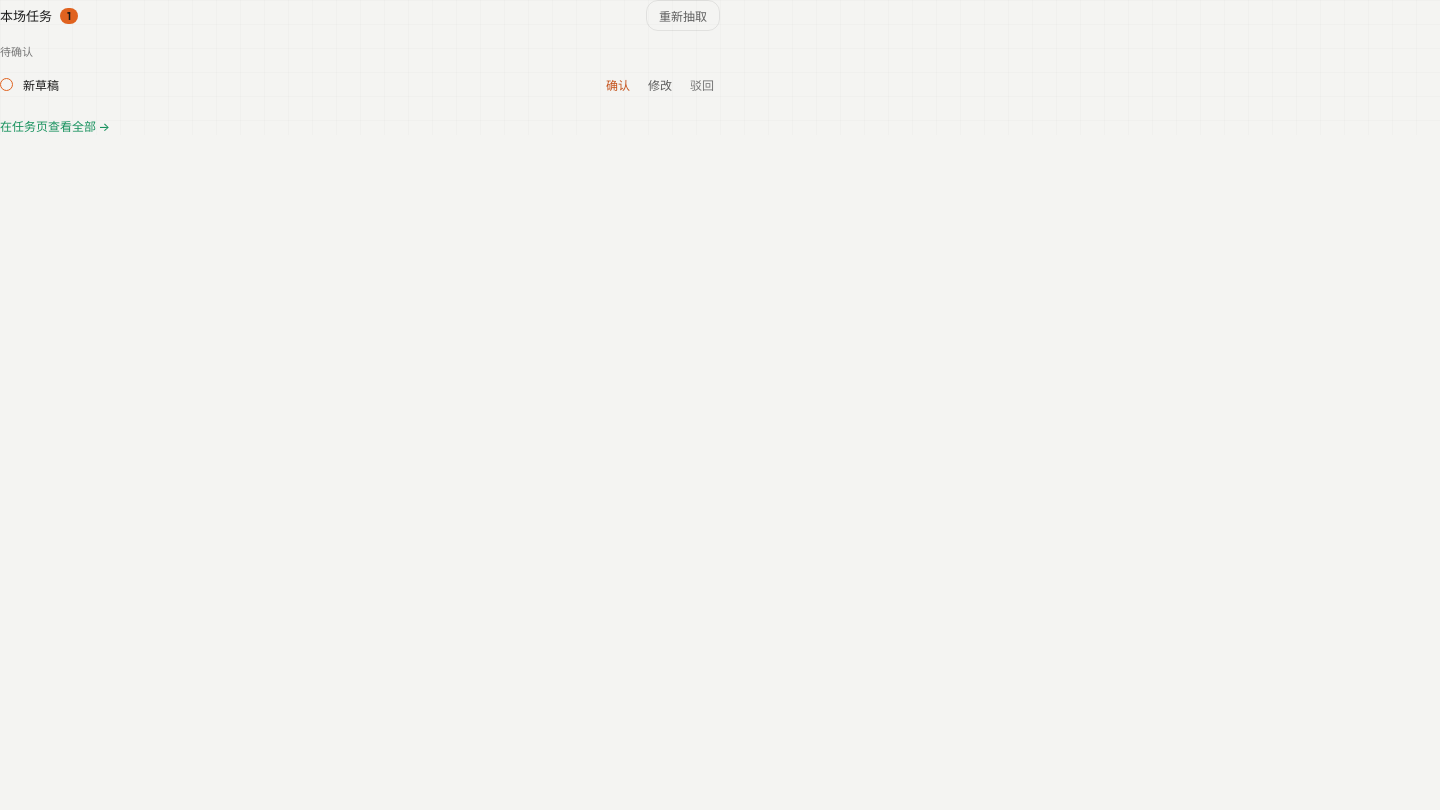
Scenario: 会议详情的本场任务 › 修改任务弹窗能选到项目，不再是空下拉
The image size is (1440, 810).
Click the button "修改" at point(660, 84), box [642,70,678,98]
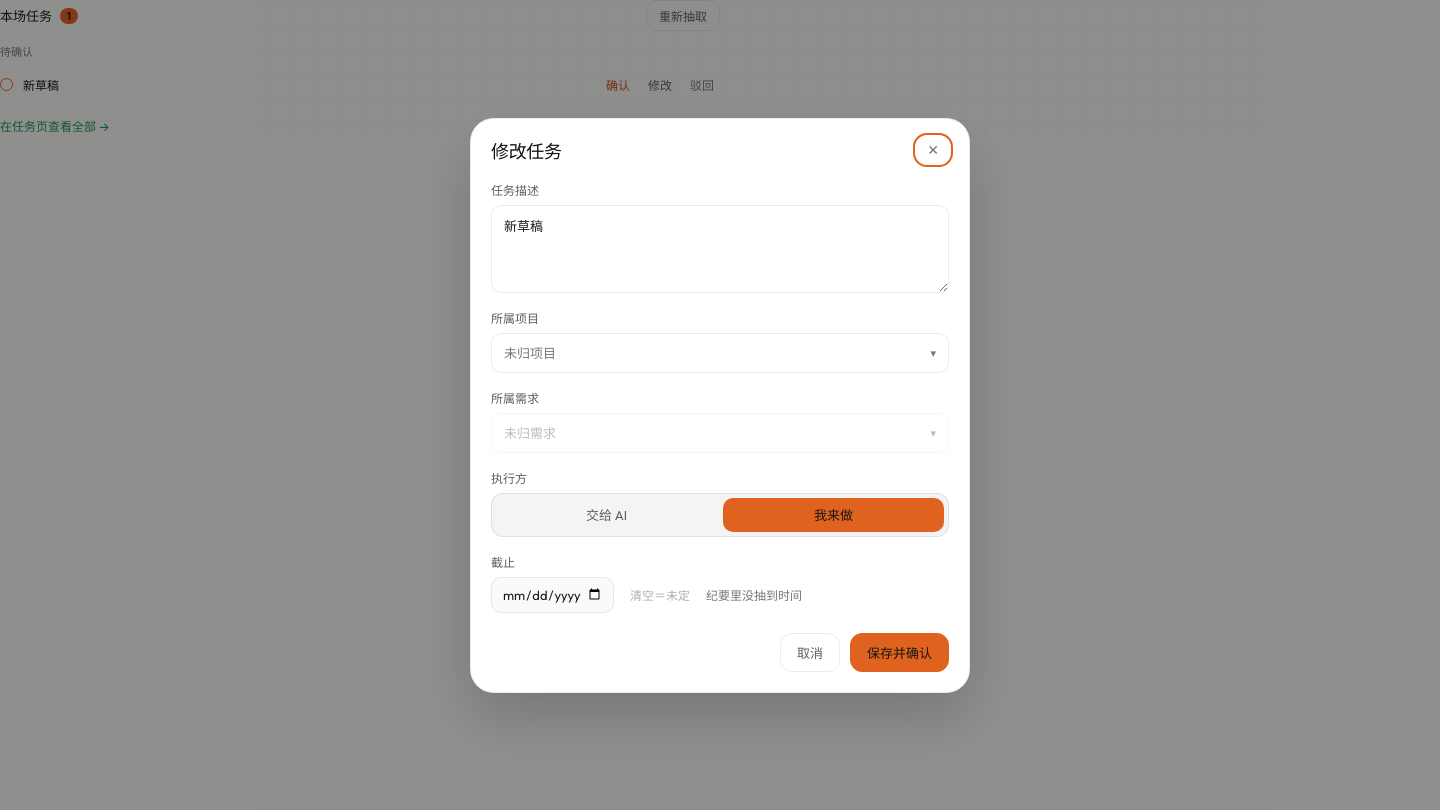
// 所属项目是自定义下拉：先点开触发按钮，选项才渲染
Click the button "未归项目 ▾" at point(530, 353), box [491,332,949,372]
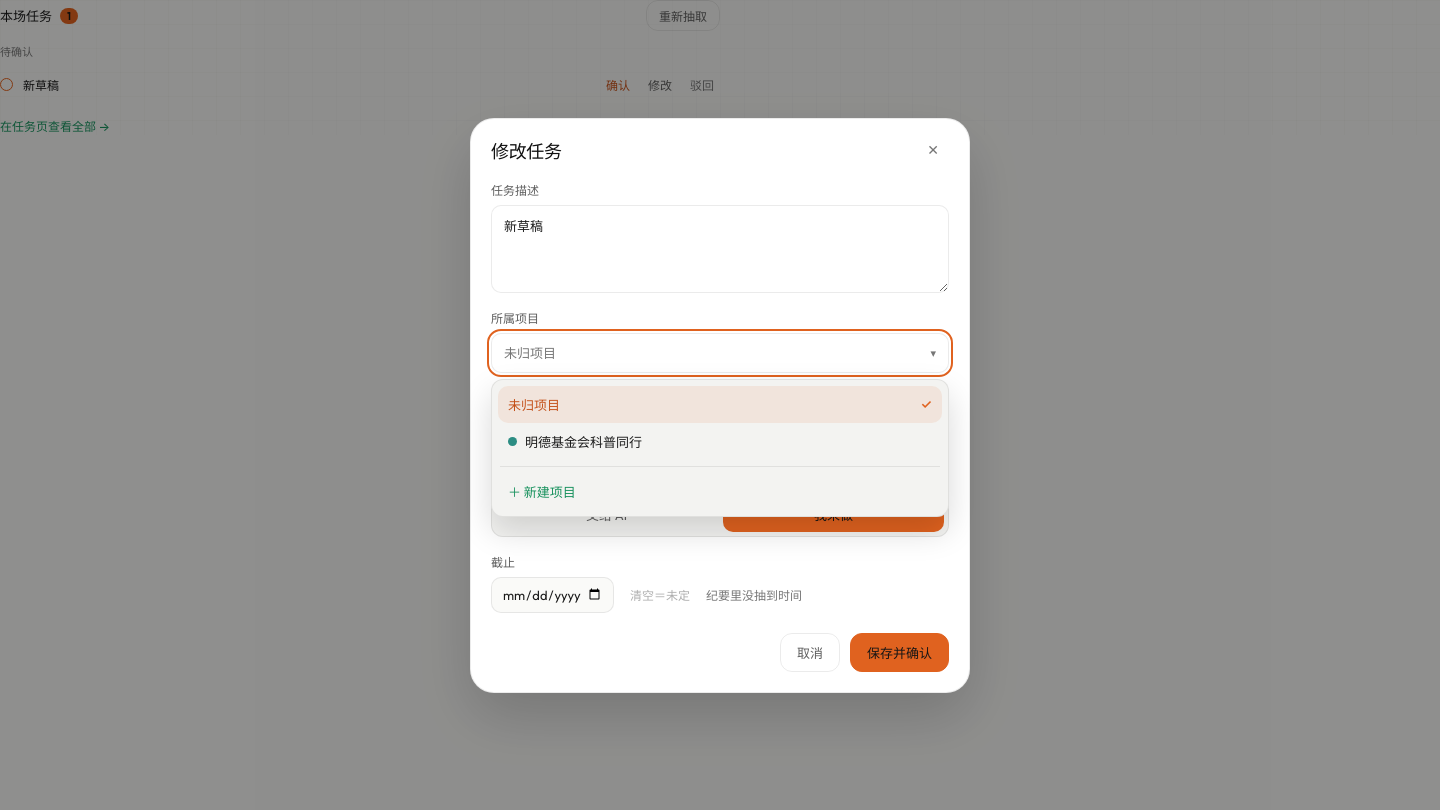
Expected: the option "明德基金会科普同行" is shown, [498,422,942,460]
